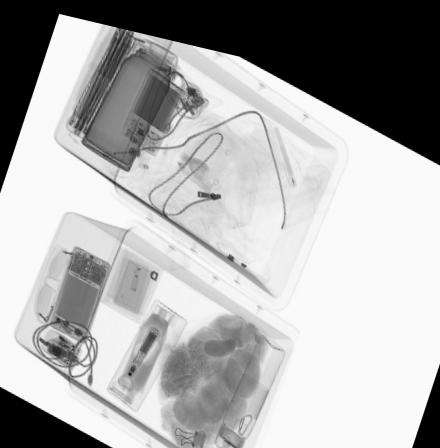Powerbank: (119, 62, 185, 151)
